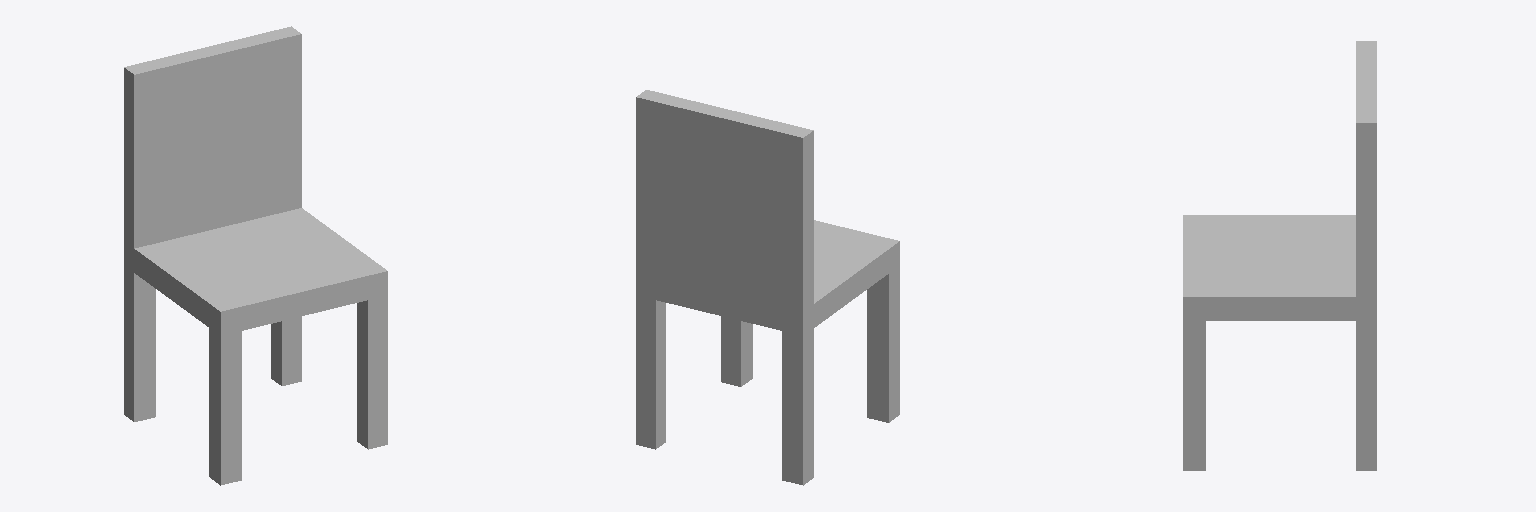
File: floppy-desk.obj
3 views of the same model, side by side, from view 1: azimuth 30°, elevation 25°; view 2: azimuth 150°, elevation 25°; view 3: azimuth 270°, elevation 25° (orthographic).
Parts seen in each view (by area): view 1: Cube; view 2: Cube; view 3: Cube.
Boxes of the visible parts, x1=… form: Cube: x1=124, y1=26, x2=387, y2=485; Cube: x1=636, y1=90, x2=899, y2=485; Cube: x1=1183, y1=41, x2=1376, y2=470.
Size of the model in its own units: 2 by 3.97 by 2.